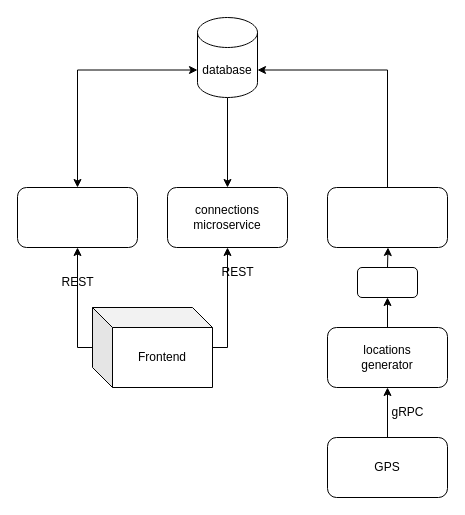
The diagram is 465 pixels wide and 515 high, and some of its shapes have lost their labels. Each missing label, with the centre of its shape:
"kafka" goes at point (387, 282).
"locations microservice" goes at point (387, 217).
"Persons microservice" goes at point (77, 217).
